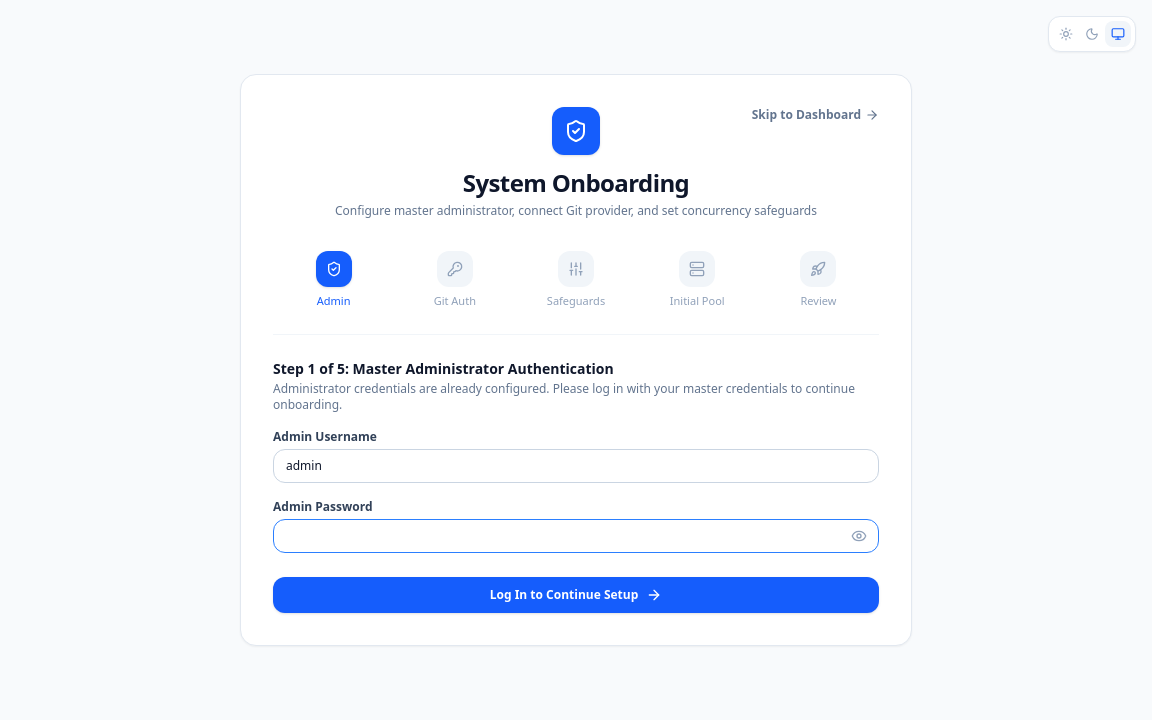
Test case: OnboardingPage (Full 5 Steps) › prevents skipping to dashboard when admin is created but unauthenticated
The image size is (1152, 720).
Click the button "Skip to Dashboard" at (815, 115), box top-left (752, 107), bottom-right (879, 123)
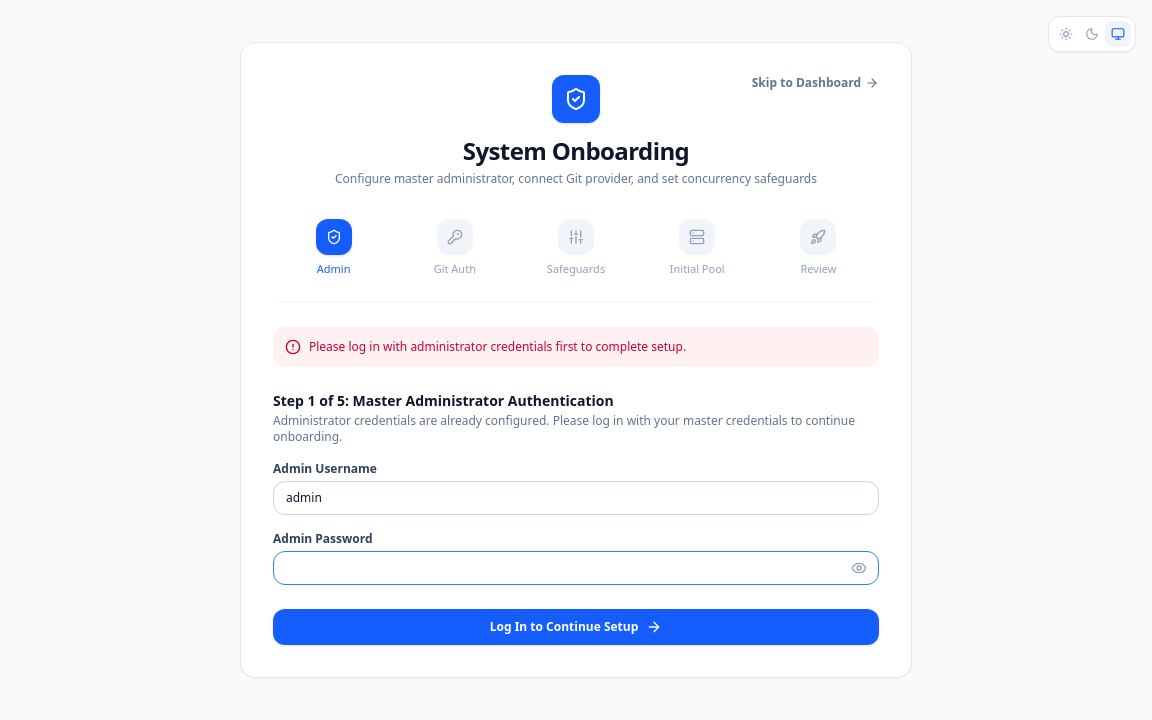
Check: the text "Please log in with administrator credentials first to complete setup." is shown, box top-left (309, 339), bottom-right (686, 355)
